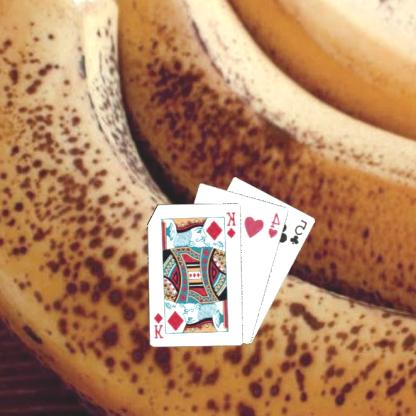4H: (267, 210, 283, 239)
5C: (289, 217, 311, 246)
KD: (152, 310, 166, 340), (226, 208, 238, 240)
